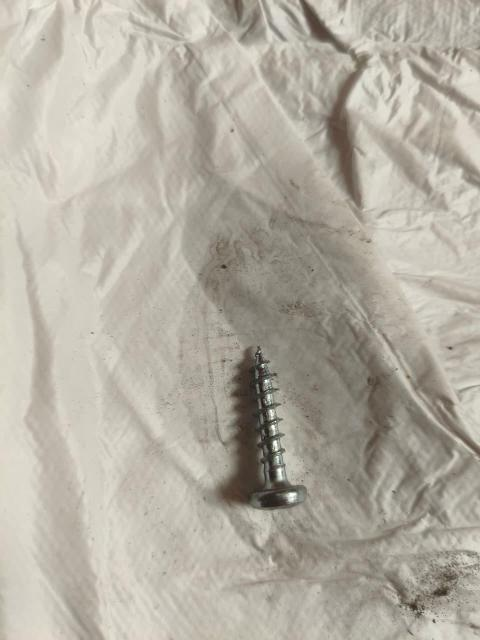Metal: (248, 328, 308, 517)
